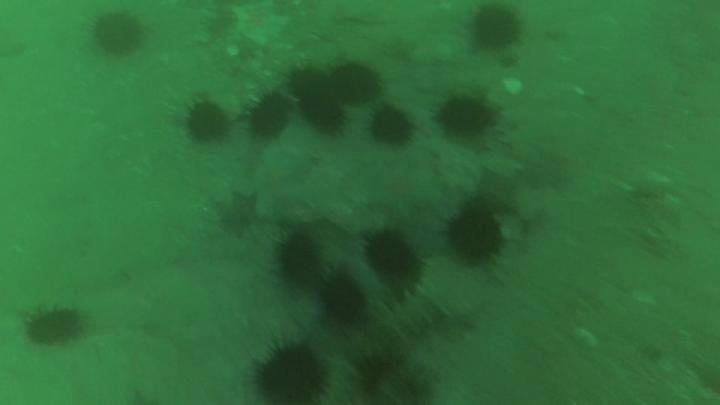echinus: (240, 334, 338, 405), (348, 340, 442, 405), (433, 204, 513, 279), (357, 229, 432, 300), (311, 259, 375, 333), (429, 91, 506, 144), (169, 91, 239, 146), (464, 2, 529, 60), (239, 87, 297, 146), (84, 9, 150, 60), (279, 227, 325, 297), (22, 302, 86, 352), (328, 56, 388, 108), (295, 91, 355, 142), (364, 99, 419, 150), (276, 61, 334, 100)
starfish: (205, 181, 270, 242), (368, 178, 433, 236), (226, 4, 294, 52), (470, 167, 526, 217), (518, 145, 574, 195)
